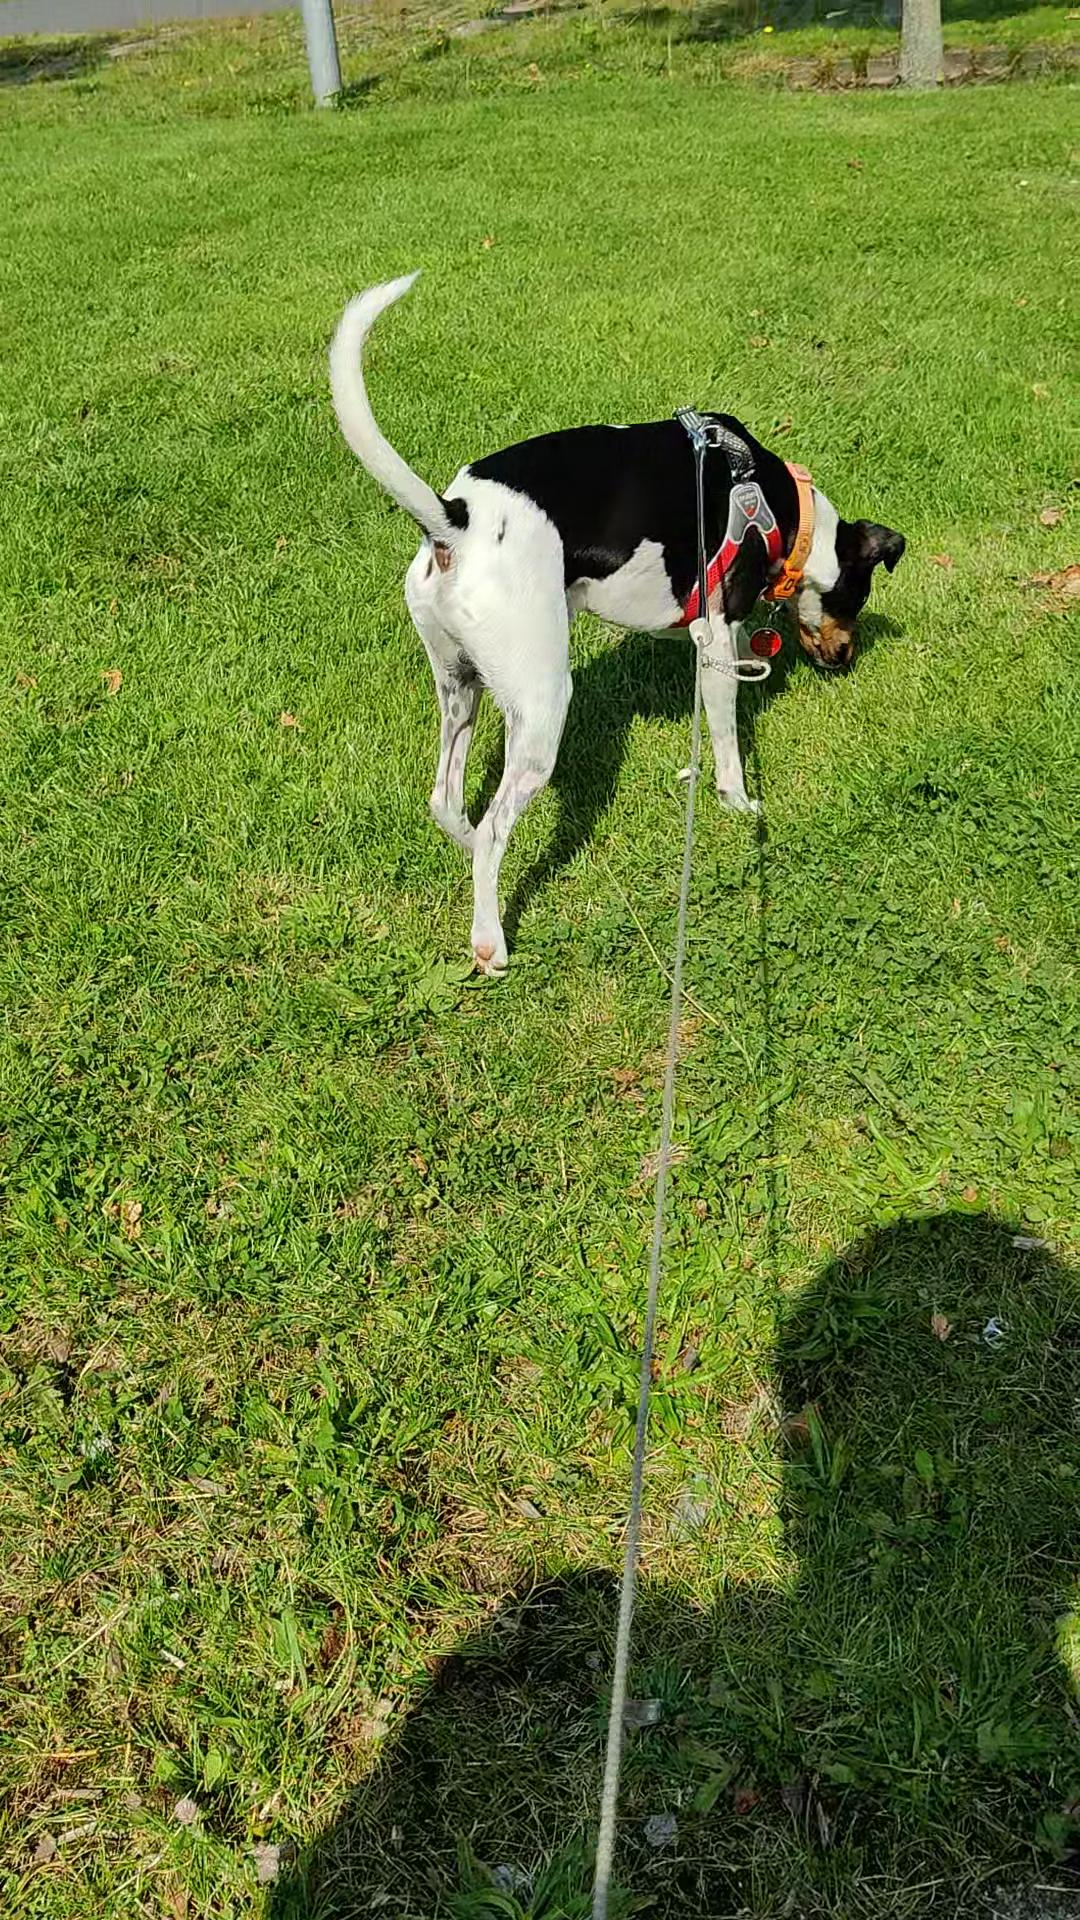Dog: (316, 266, 905, 985)
